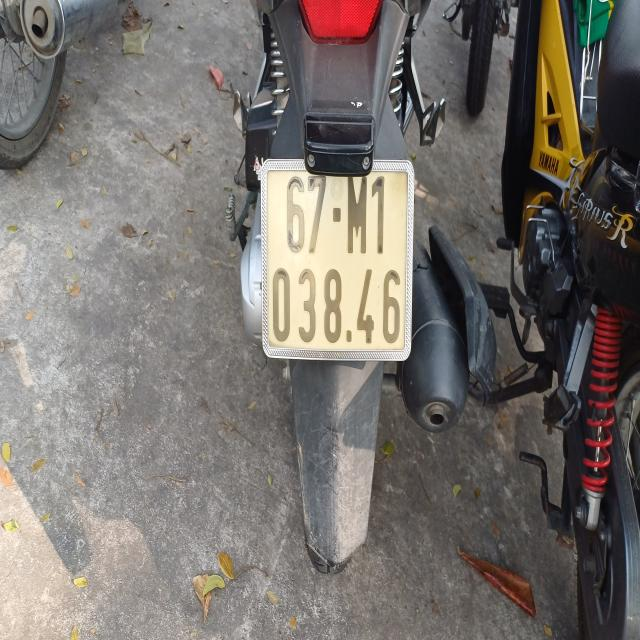0: (270, 266, 292, 346)
1: (370, 175, 386, 258)
3: (298, 265, 317, 343)
4: (356, 266, 375, 343)
6: (284, 174, 306, 254), (382, 267, 402, 346)
7: (308, 174, 328, 252)
8: (323, 266, 342, 348)
M: (346, 171, 368, 256)
